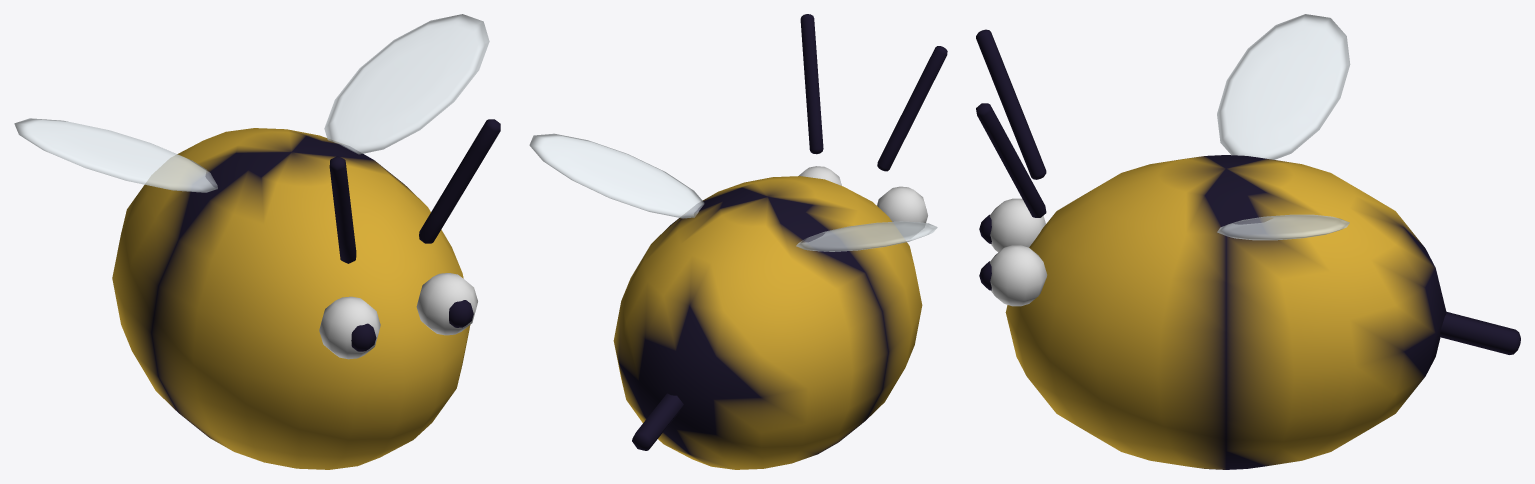
Rendered from biene.glb.
3 views of the same model, side by side, from view 1: azimuth 30°, elevation 25°; view 2: azimuth 150°, elevation 25°; view 3: azimuth 270°, elevation 25° (orthographic). The views are drawn at different scales.
Parts seen in each view (by area): view 1: biene-lack, biene-glas; view 2: biene-lack, biene-glas; view 3: biene-lack, biene-glas.
Part boxes in pixels (x1,y1,x2,y2): biene-lack: [112, 119, 500, 469]; biene-glas: [14, 14, 489, 192]; biene-lack: [613, 14, 947, 469]; biene-glas: [529, 133, 937, 251]; biene-lack: [976, 29, 1520, 469]; biene-glas: [1217, 14, 1350, 240].
Size of the model in its own units: 0.4772 by 0.3895 by 0.4943.
